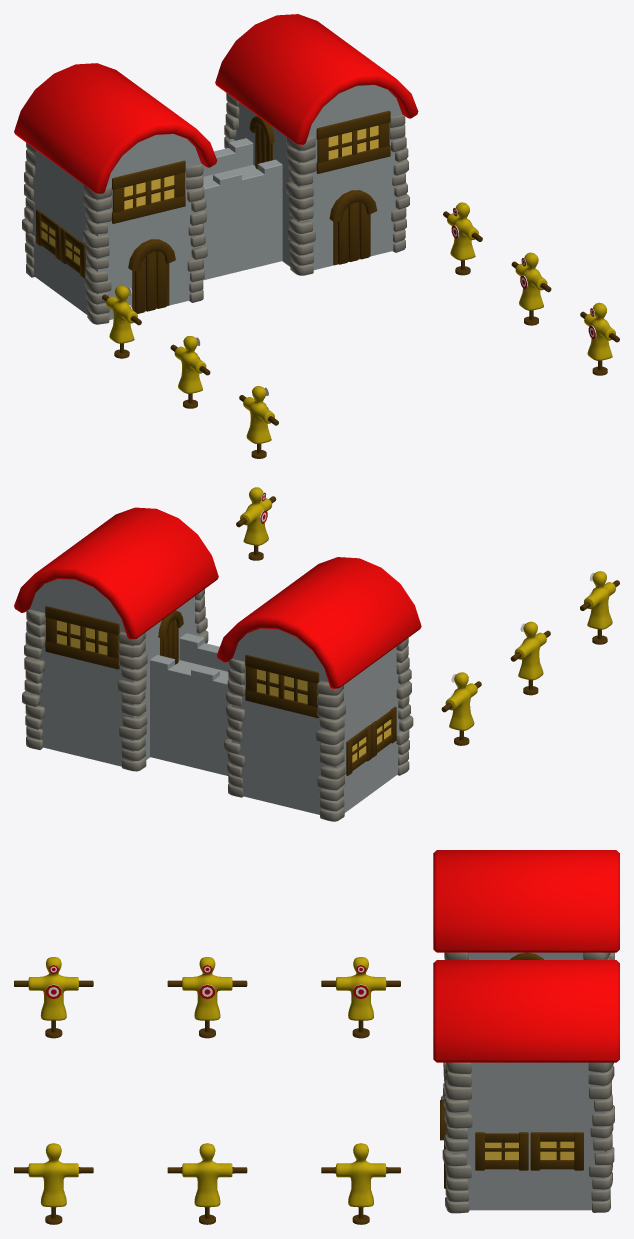
Rendered from barrack.glb.
3 renders of one model, top to bottom at view 1: azimuth 30°, elevation 25°; view 2: azimuth 150°, elevation 25°; view 3: azimuth 270°, elevation 25°, orthographic. The views are drawn at different scales.
Parts seen in each view (by area): view 1: GuardBarracks_RedTeam; view 2: GuardBarracks_RedTeam; view 3: GuardBarracks_RedTeam.
Boxes of the visible parts, bbox=[...] form: GuardBarracks_RedTeam: bbox=[14, 14, 619, 458]; GuardBarracks_RedTeam: bbox=[14, 487, 619, 821]; GuardBarracks_RedTeam: bbox=[14, 850, 619, 1224].
Size of the model in its own units: 21.2 by 10.84 by 27.61.
